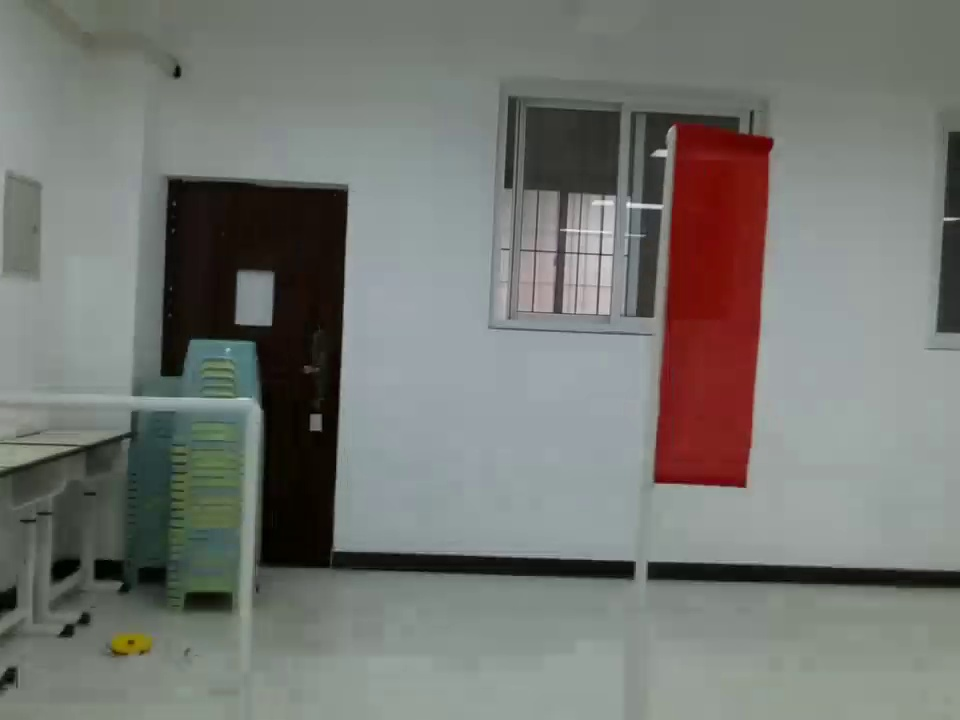qi: (639, 119, 779, 512)
